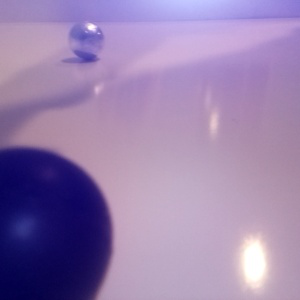alive_ball: (68, 22, 104, 60)
dead_ball: (1, 146, 111, 300)
